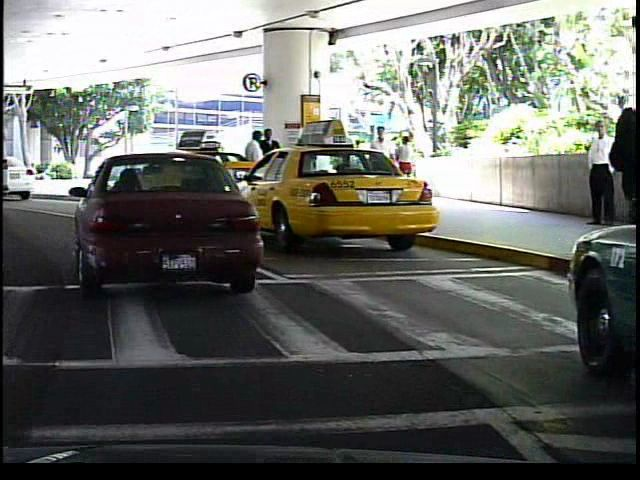person: (602, 99, 640, 259), (573, 112, 610, 234), (365, 119, 399, 205), (237, 127, 268, 207), (390, 130, 417, 197), (260, 126, 281, 204)
